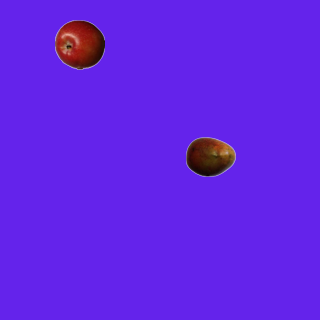Apple Braeburn: (54, 19, 104, 69)
Mango Red: (185, 131, 235, 181)
